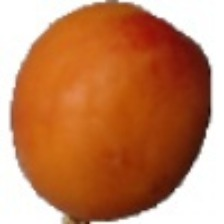apricot: (54, 27, 207, 186)
